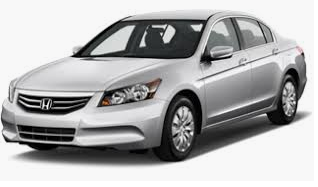car: (1, 9, 308, 167)
